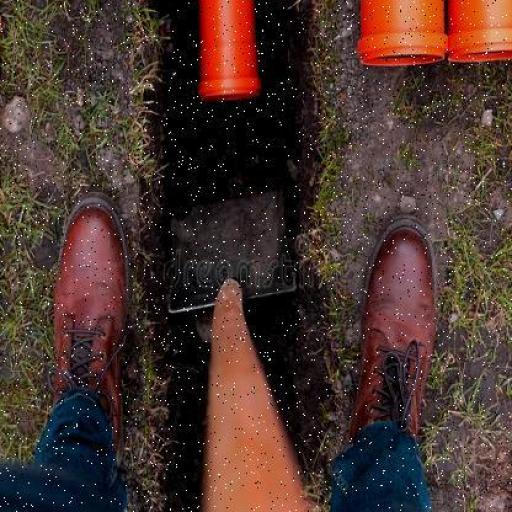safety_shoe: (45, 196, 136, 471), (354, 218, 434, 460)
